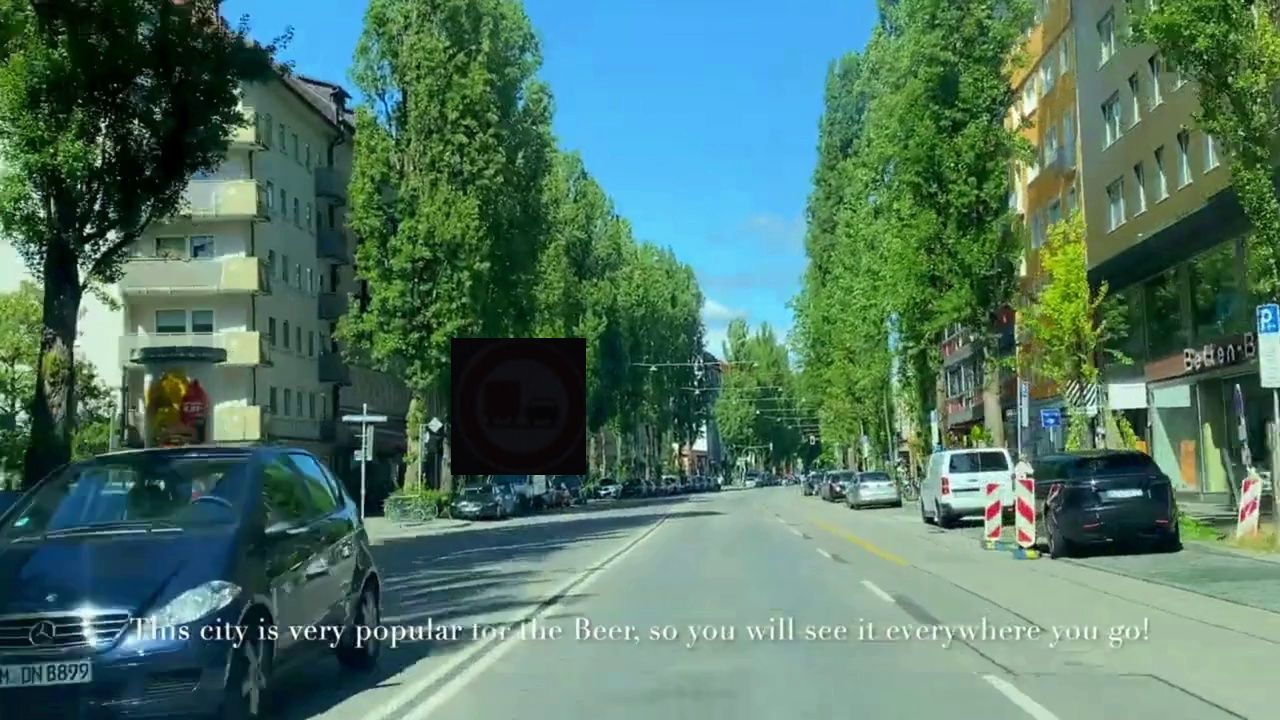No pass >3.5t: (451, 338, 586, 475)
